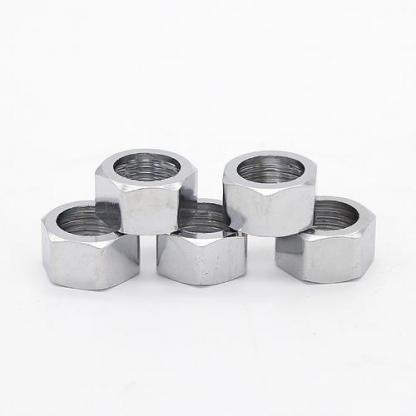FOD: (39, 197, 143, 296), (272, 192, 377, 289), (93, 145, 201, 237), (220, 148, 322, 239), (153, 195, 251, 288)
